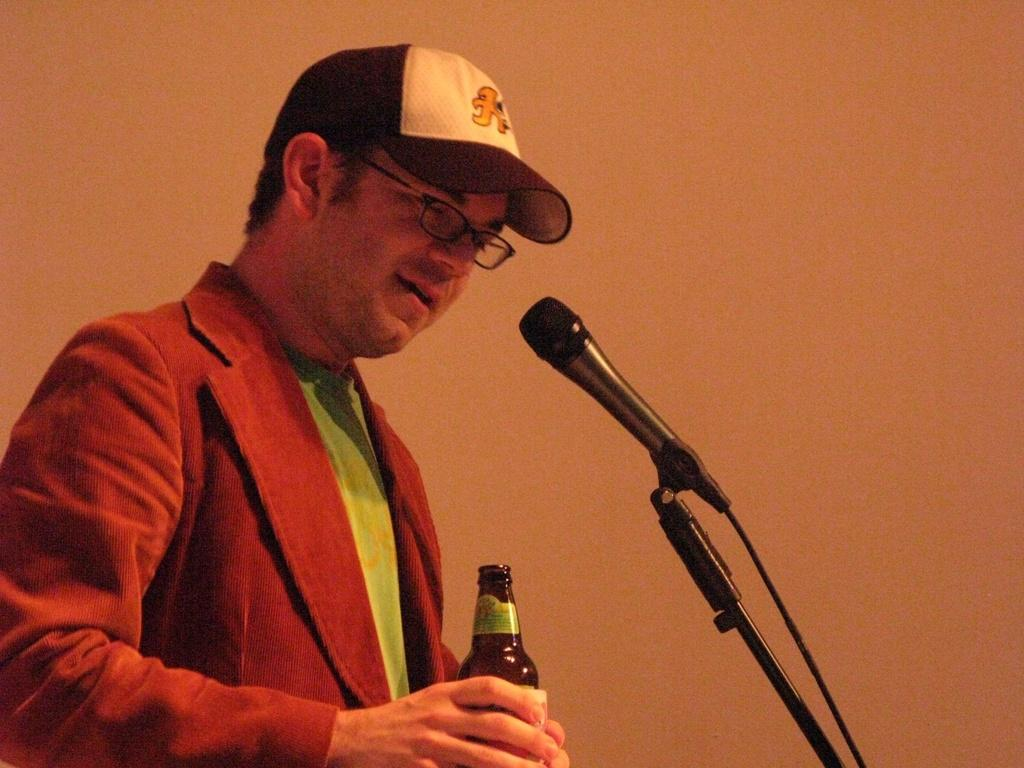Hat: (262, 44, 572, 246)
